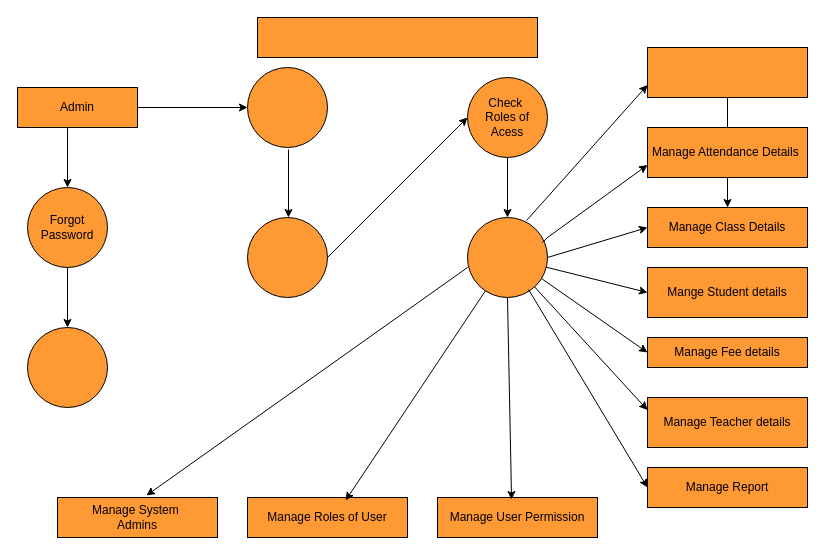
This 825x555 diagram has some shape labels left out. Here are the shapes that lost their labels. From the top down, the centre of each, then its label:
At pixel 397 37: "Student Information System".
At pixel 727 72: "Manage time table details".
At pixel 287 107: "Login System".
At pixel 287 257: "Check Credentials".
At pixel 507 257: "Manage Modules".
At pixel 67 367: "Send Email to User".
